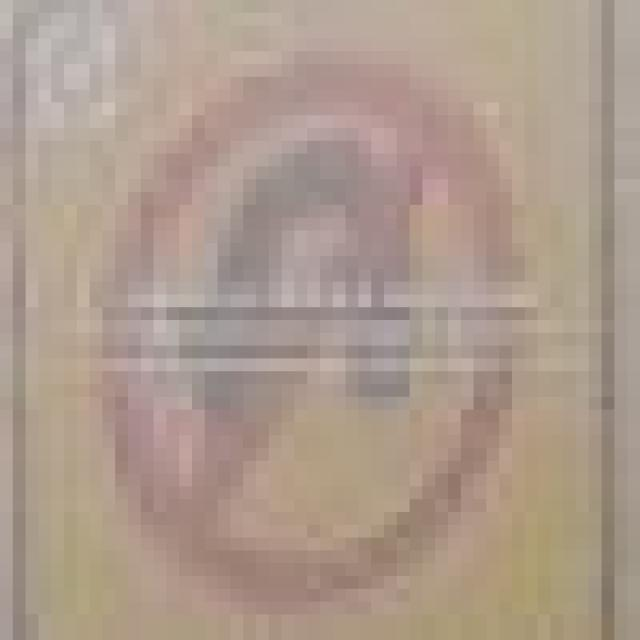U_TURN_PROHIBITED: (77, 26, 512, 576)
